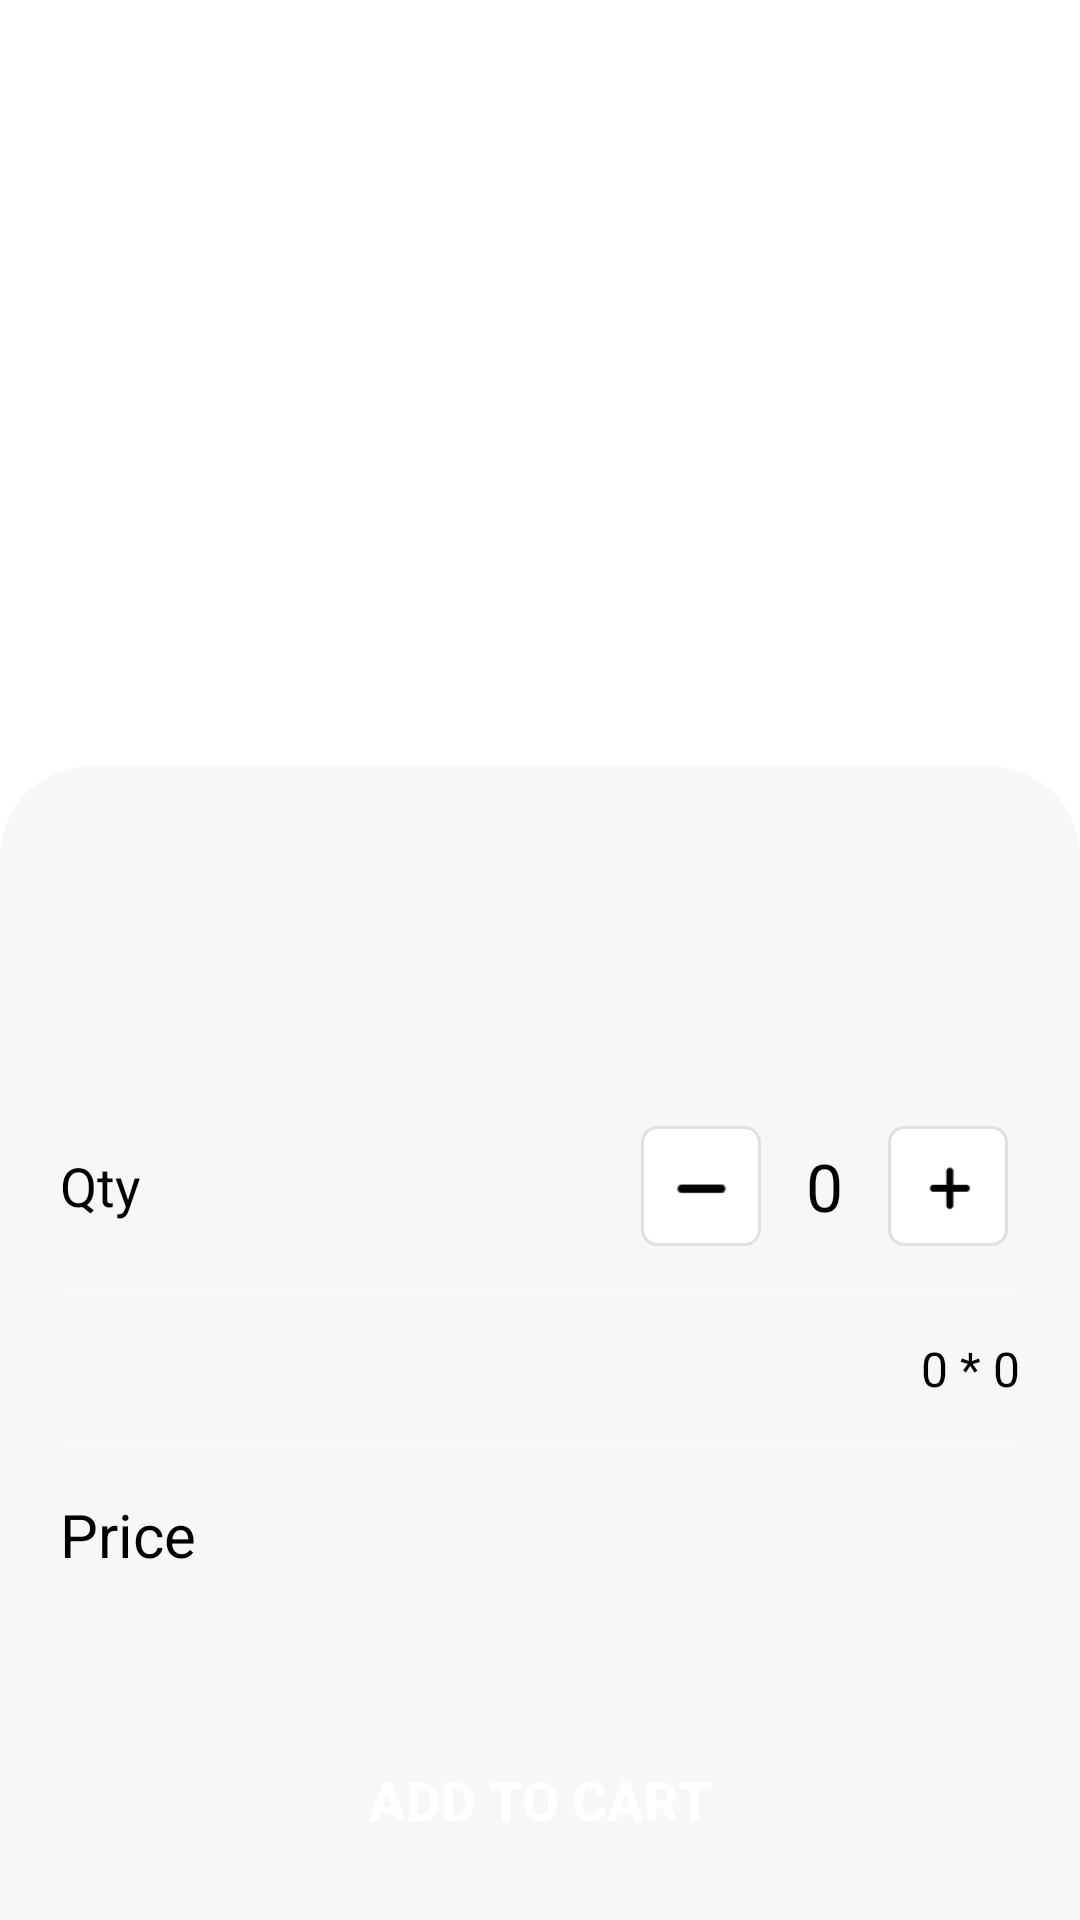

Icons on this 1080*1920 Android screen, each with its box as (x1, y1, x2, y2):
minus: (641, 1126, 761, 1246)
plus: (888, 1126, 1008, 1246)
